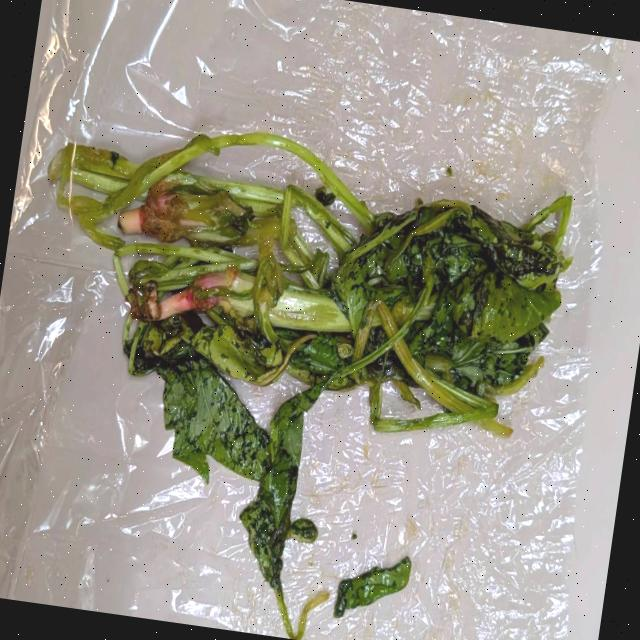rotten spinach: (2, 69, 597, 464), (106, 35, 422, 612), (86, 173, 470, 640), (271, 137, 589, 508), (14, 45, 371, 348)
